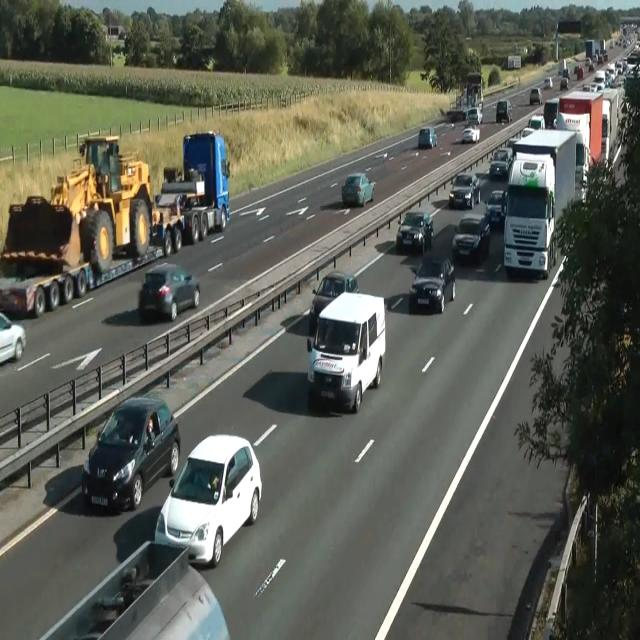bus: (138, 261, 200, 322), (309, 271, 359, 331), (0, 311, 26, 365), (341, 173, 375, 207), (485, 189, 507, 225), (489, 148, 512, 178), (508, 126, 534, 147), (418, 126, 437, 148), (494, 100, 512, 122), (462, 125, 479, 143), (465, 106, 482, 124), (529, 113, 545, 130), (530, 87, 542, 105), (520, 127, 534, 139), (543, 76, 553, 89), (585, 57, 594, 71), (560, 77, 568, 90), (562, 69, 570, 79)
car: (39, 538, 230, 638), (159, 130, 230, 231)
jeep: (154, 430, 262, 567), (80, 395, 180, 512), (306, 290, 386, 412), (408, 252, 456, 313), (451, 213, 491, 263), (396, 209, 434, 254), (448, 171, 479, 209)
minibus: (0, 128, 230, 317), (503, 127, 579, 279), (544, 86, 618, 185), (446, 72, 484, 124), (584, 38, 608, 64), (501, 54, 521, 70)
